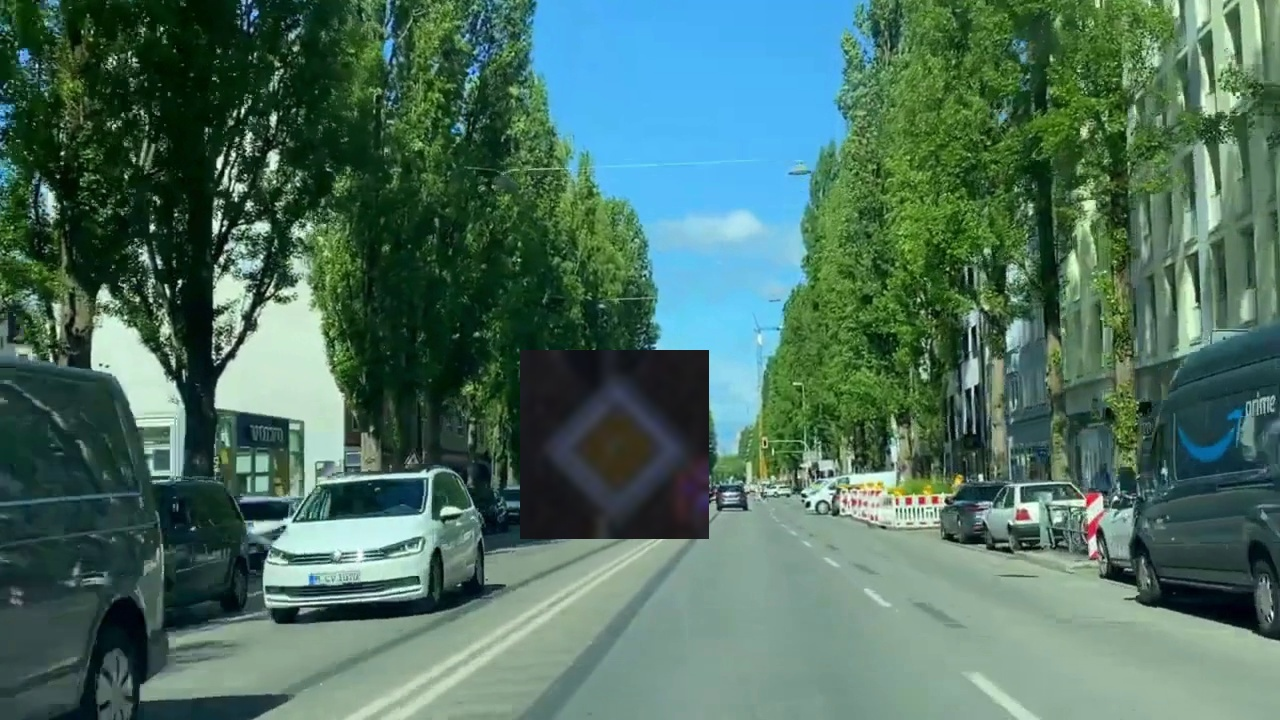Priority road: (520, 350, 709, 539)
